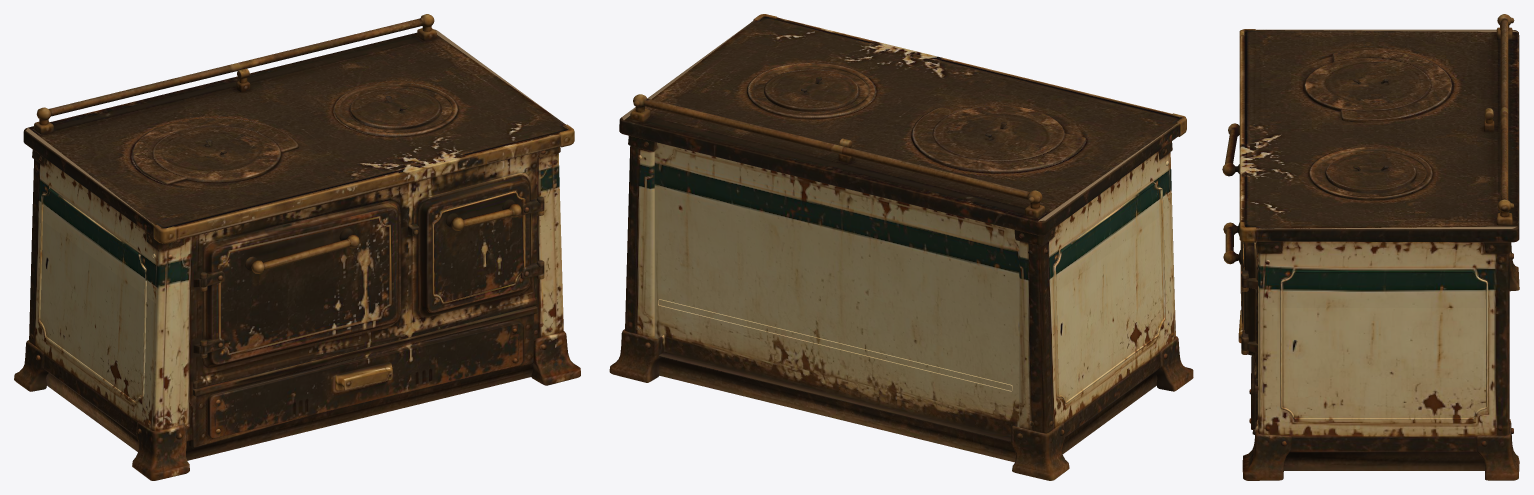
File: canteen-stove.glb
3 renders of one model, left to right at view 1: azimuth 30°, elevation 25°; view 2: azimuth 150°, elevation 25°; view 3: azimuth 270°, elevation 25°, orthographic. The views are drawn at different scales.
Visible parts, largest first — view 1: SM_BT_CanteenStove; view 2: SM_BT_CanteenStove; view 3: SM_BT_CanteenStove.
Boxes of the visible parts, left/top/right/bottom form: SM_BT_CanteenStove: left=14, top=14, right=580, bottom=480; SM_BT_CanteenStove: left=609, top=14, right=1193, bottom=480; SM_BT_CanteenStove: left=1222, top=14, right=1519, bottom=480.
Size of the model in its own units: 1.49 by 0.9 by 0.8985.
Materials: 1 (1 with a texture image).
